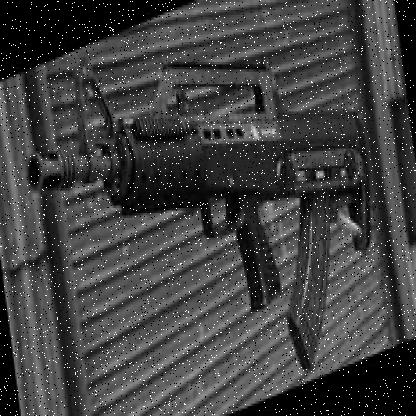rifle: (17, 0, 396, 416)
